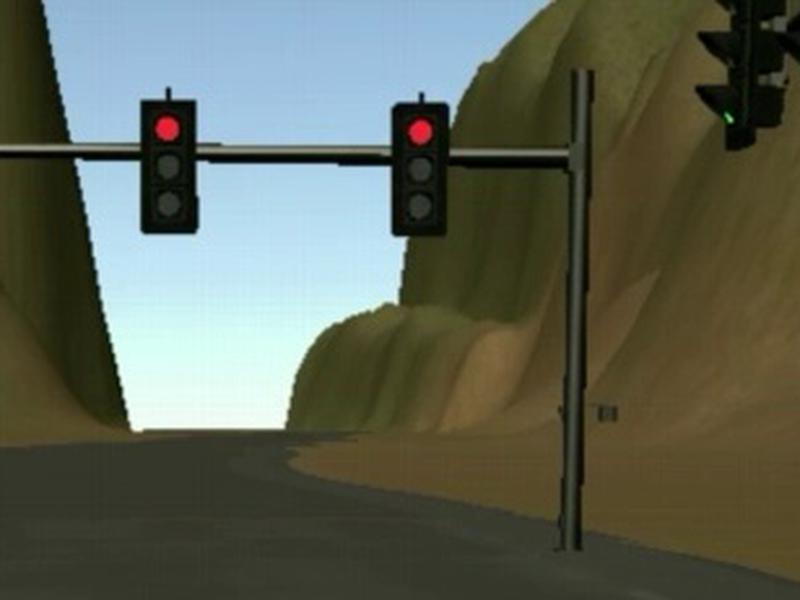Red: (140, 99, 199, 234), (391, 102, 450, 236)
